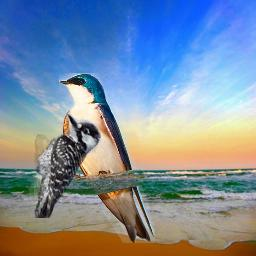Swallow: (59, 73, 155, 243)
Woodpecker: (15, 110, 101, 218)
